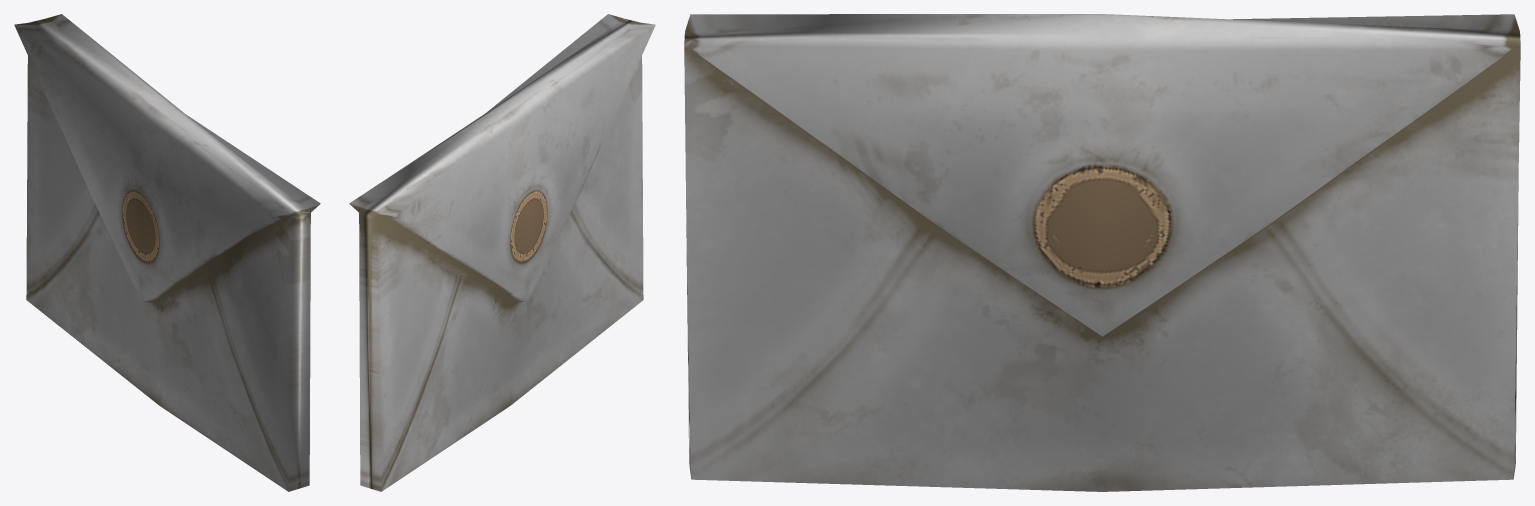
Rendered from pick_up_pack_collectibles_envelope.glb.
3 renders of one model, left to right at view 1: azimuth 30°, elevation 25°; view 2: azimuth 150°, elevation 25°; view 3: azimuth 270°, elevation 25°, orthographic. The views are drawn at different scales.
Parts seen in each view (by area): view 1: PM3D_Sphere3D_5; view 2: PM3D_Sphere3D_5; view 3: PM3D_Sphere3D_5.
Boxes of the visible parts, box(x1,y1,x2,y2) form: PM3D_Sphere3D_5: box(14, 14, 320, 491); PM3D_Sphere3D_5: box(349, 14, 655, 491); PM3D_Sphere3D_5: box(684, 14, 1520, 491).
Bounding box in the file's own units: 0.0019 × 0.00871 × 0.0141.
Materials: 1 (1 with a texture image).
